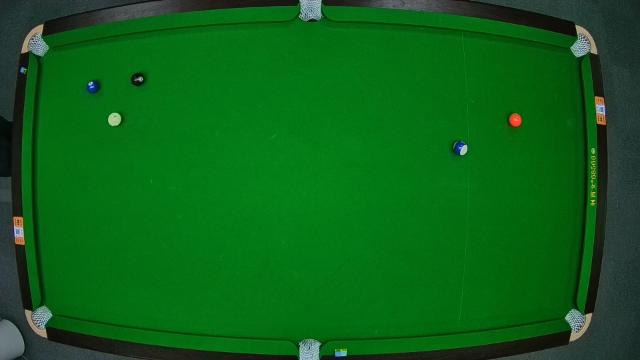bag1: (27, 34, 45, 54)
bag2: (300, 3, 324, 21)
bag3: (572, 36, 594, 56)
bag4: (32, 302, 52, 328)
bag5: (296, 336, 320, 360)
bag6: (566, 308, 588, 332)
ball0: (108, 111, 122, 127)
ball10: (452, 140, 468, 156)
ball2: (86, 80, 100, 93)
ball5: (509, 112, 523, 128)
ball8: (130, 71, 146, 87)
